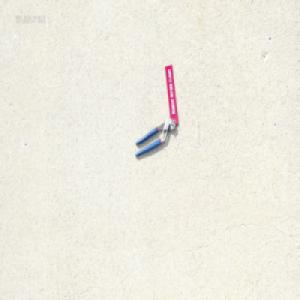Label: (165, 64, 179, 125)
Pliers: (134, 118, 174, 158)
